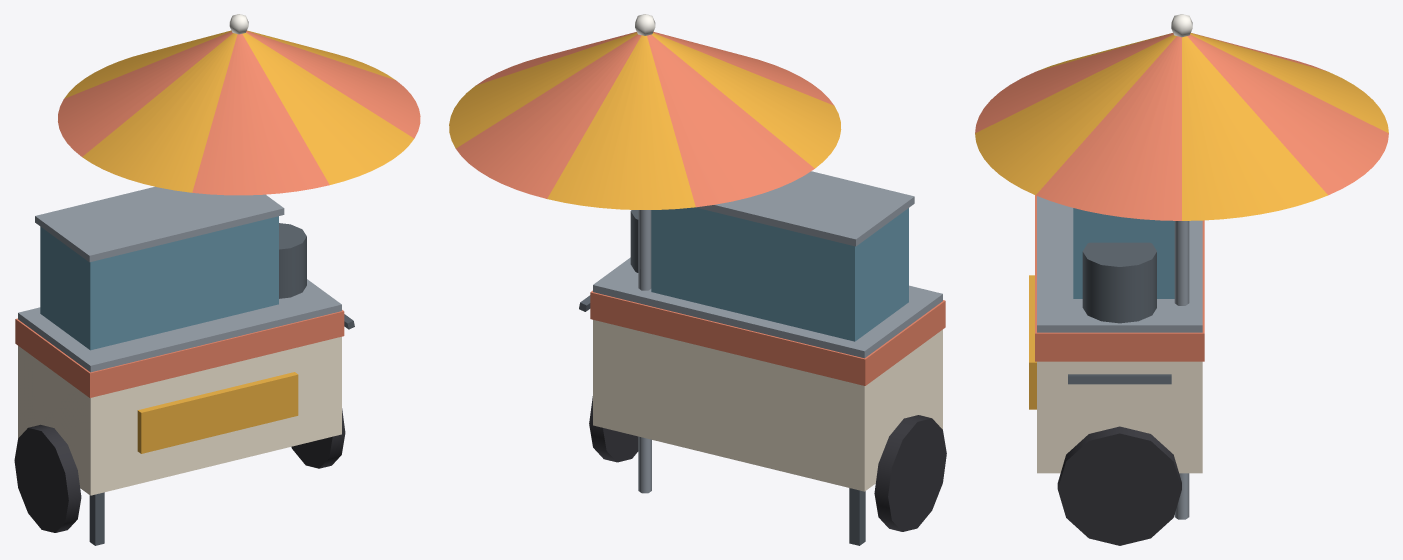
File: food-cart-01.glb
The picture shows the model from 3 angles, left to right: view 1: azimuth 30°, elevation 25°; view 2: azimuth 150°, elevation 25°; view 3: azimuth 270°, elevation 25°; orthographic projection. The views are drawn at different scales.
Visible parts, largest first — view 1: Umbrella, Body, GlassCase, Wheels, Sign, Pot; view 2: Umbrella, Body, GlassCase, Wheels; view 3: Umbrella, Body, Wheels, Pot, GlassCase, Handle, Sign.
Boxes of the visible parts, box(x1,y1,x2,y2) form: Umbrella: box(58, 14, 420, 195); Body: box(15, 279, 344, 495); GlassCase: box(35, 186, 284, 350); Wheels: box(14, 408, 345, 545); Sign: box(137, 372, 298, 453); Pot: box(279, 223, 306, 298); Umbrella: box(449, 14, 841, 493); Body: box(590, 257, 945, 491); GlassCase: box(651, 171, 914, 341); Wheels: box(589, 396, 946, 545); Umbrella: box(975, 14, 1388, 519); Body: box(1035, 195, 1204, 473); Wheels: box(1057, 426, 1181, 545); Pot: box(1082, 242, 1156, 323); GlassCase: box(1073, 208, 1174, 298); Handle: box(1068, 374, 1171, 384); Sign: box(1029, 275, 1036, 409).
Size of the model in its own units: 2.43 by 2.68 by 2.
